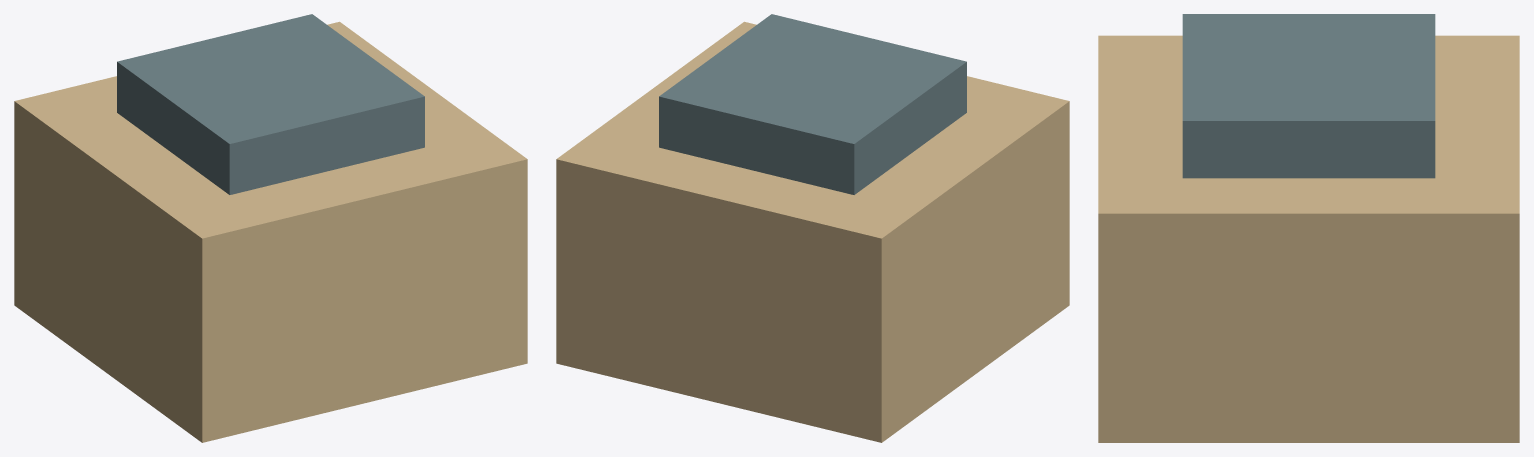
Rendered from observatory.glb.
The picture shows the model from 3 angles, left to right: view 1: azimuth 30°, elevation 25°; view 2: azimuth 150°, elevation 25°; view 3: azimuth 270°, elevation 25°; orthographic projection. The views are drawn at different scales.
Parts seen in each view (by area): view 1: observatory-static-observatory-stone, observatory-static-observatory-metal; view 2: observatory-static-observatory-stone, observatory-static-observatory-metal; view 3: observatory-static-observatory-stone, observatory-static-observatory-metal.
Part boxes in pixels (<box>): observatory-static-observatory-stone: <box>14,21,527,442</box>; observatory-static-observatory-metal: <box>117,14,424,194</box>; observatory-static-observatory-stone: <box>556,21,1069,442</box>; observatory-static-observatory-metal: <box>659,14,966,194</box>; observatory-static-observatory-stone: <box>1098,35,1519,442</box>; observatory-static-observatory-metal: <box>1182,14,1435,178</box>.
Bounding box in the file's own units: 5 × 3.75 × 5.
